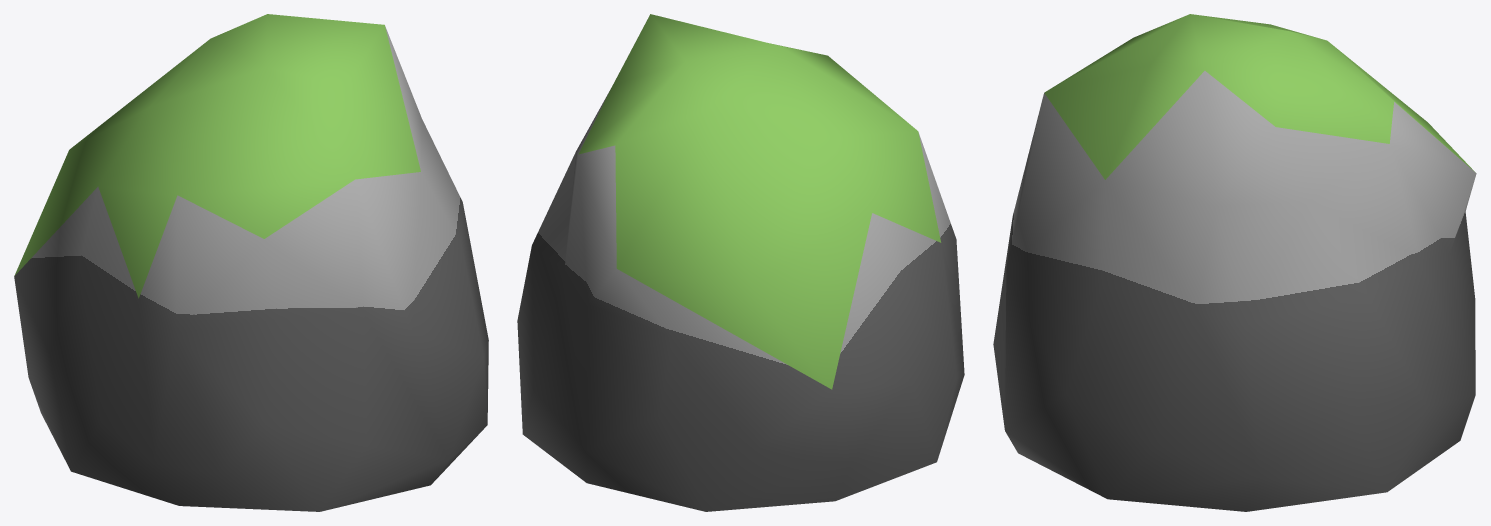
File: boulder.obj
The picture shows the model from 3 angles, left to right: view 1: azimuth 30°, elevation 25°; view 2: azimuth 150°, elevation 25°; view 3: azimuth 270°, elevation 25°; orthographic projection. The views are drawn at different scales.
Parts seen in each view (by area): view 1: Stone.016_Icosphere.002; view 2: Stone.016_Icosphere.002; view 3: Stone.016_Icosphere.002.
Part boxes in pixels (x1,y1,x2,y2): Stone.016_Icosphere.002: (14,14,488,511); Stone.016_Icosphere.002: (517,14,964,511); Stone.016_Icosphere.002: (993,14,1476,511).
Bounding box in the file's own units: 4.98 × 4.61 × 4.99.
Materials: 1 (1 with a texture image).
